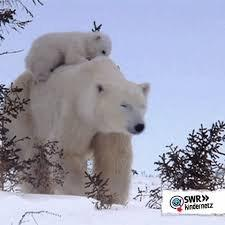bear: (2, 59, 151, 204), (24, 31, 112, 81)
